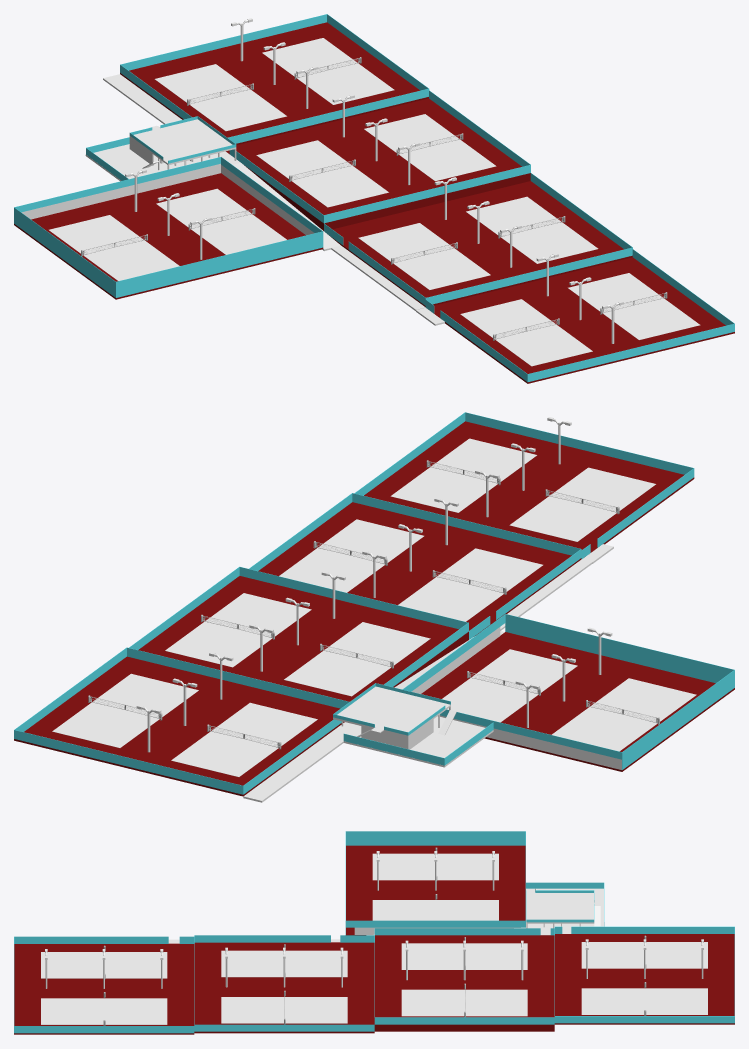
File: Tennis Courts.fbx
The picture shows the model from 3 angles, top to bottom: view 1: azimuth 30°, elevation 25°; view 2: azimuth 150°, elevation 25°; view 3: azimuth 270°, elevation 25°; orthographic projection. The views are drawn at different scales.
Visible parts, largest first — view 1: Full_Court_Floor_1, Full_Court_Floor_3, Full_Court_Floor_2, Full_Court_Floor, Full_Court_Floor_4, Court_2, Court_2_2, Court_2_4, Court_2_3, Court_1_2, Court_1_4, Court_2_5 (+27 smaller); view 2: Full_Court_Floor, Full_Court_Floor_3, Full_Court_Floor_1, Full_Court_Floor_2, Full_Court_Floor_4, Court_2, Court_2_2, Court_2_4, Court_2_3, Court_2_5, Court_1, Court_1_2 (+27 smaller); view 3: Full_Court_Floor_1, Full_Court_Floor_2, Full_Court_Floor_3, Full_Court_Floor, Full_Court_Floor_4, Court_1_2, Court_2_3, Court_2_5, Court_1, Court_1_3, Court_1_4, Court_2_4 (+17 smaller).
Part boxes in pixels (<box>): Full_Court_Floor_1: <box>226,98,530,230</box>; Full_Court_Floor_3: <box>434,257,734,383</box>; Full_Court_Floor_2: <box>329,181,632,306</box>; Full_Court_Floor: <box>120,22,428,145</box>; Full_Court_Floor_4: <box>14,173,323,299</box>; Court_2: <box>154,64,286,131</box>; Court_2_2: <box>256,140,388,207</box>; Court_2_4: <box>460,299,592,366</box>; Court_2_3: <box>358,223,490,289</box>; Court_1_2: <box>364,114,496,181</box>; Court_1_4: <box>568,273,700,339</box>; Court_2_5: <box>49,215,179,280</box>; Full_Court_Floor: <box>14,656,344,796</box>; Full_Court_Floor_3: <box>364,421,694,552</box>; Full_Court_Floor_1: <box>138,576,468,701</box>; Full_Court_Floor_2: <box>258,502,581,636</box>; Full_Court_Floor_4: <box>421,632,734,771</box>; Court_2: <box>171,702,317,776</box>; Court_2_2: <box>284,622,430,696</box>; Court_2_4: <box>509,467,655,541</box>; Court_2_3: <box>398,548,542,621</box>; Court_2_5: <box>551,678,696,751</box>; Court_1: <box>52,673,198,747</box>; Court_1_2: <box>165,593,311,667</box>; Full_Court_Floor_1: <box>374,935,554,1031</box>; Full_Court_Floor_2: <box>194,942,374,1033</box>; Full_Court_Floor_3: <box>14,943,194,1034</box>; Full_Court_Floor: <box>554,934,734,1024</box>; Full_Court_Floor_4: <box>346,845,525,935</box>; Court_1_2: <box>401,989,527,1016</box>; Court_2_3: <box>221,950,347,977</box>; Court_2_5: <box>372,853,498,880</box>; Court_1: <box>581,988,707,1014</box>; Court_1_3: <box>221,997,347,1023</box>; Court_1_4: <box>41,998,167,1024</box>; Court_2_4: <box>41,952,167,978</box>.
Size of the model in its own units: 28102 by 3259 by 45995.
